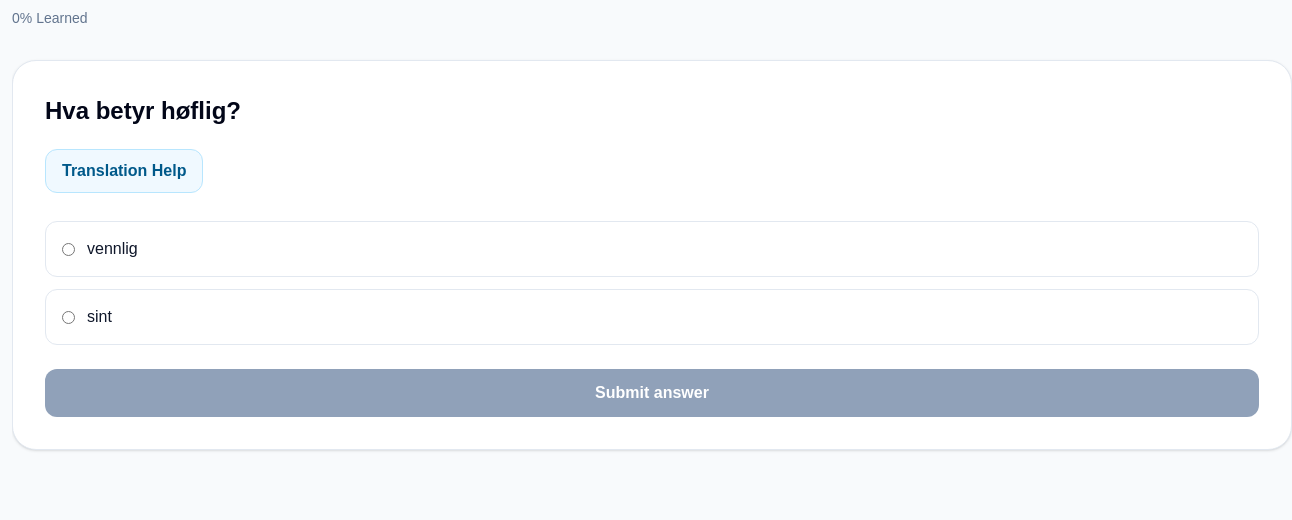
Test: Quiz Learned Milestone › does not announce streak 2 → 0 (incorrect, Translation Help: true)
Click the button "Translation Help" at [124, 171], box [45, 149, 204, 193]
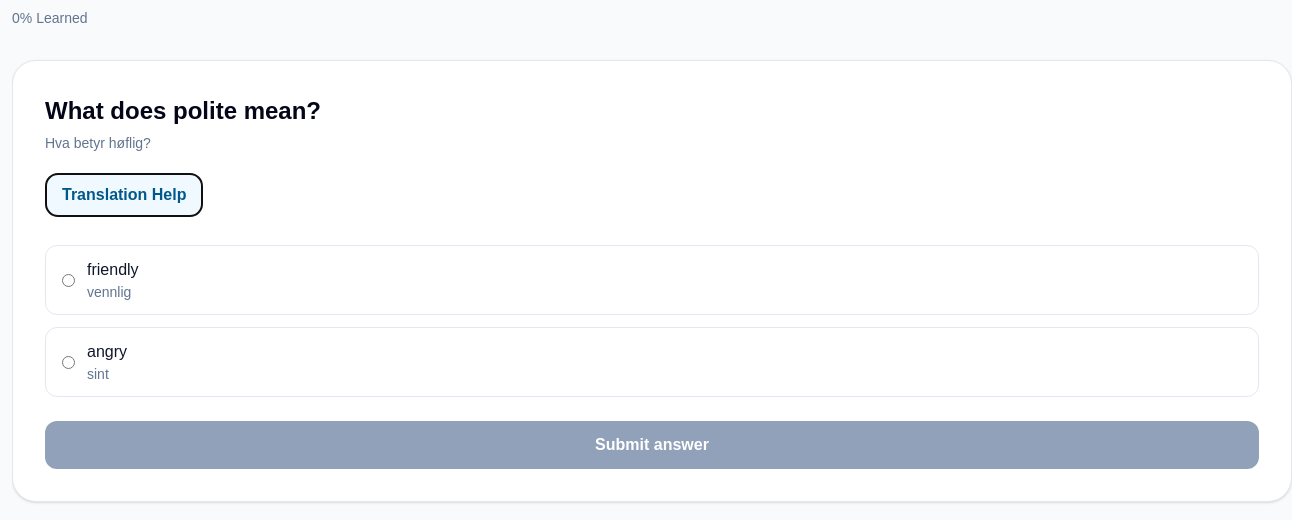
Click the radio button labelled "friendly vennlig" at [68, 280], box [62, 274, 75, 286]
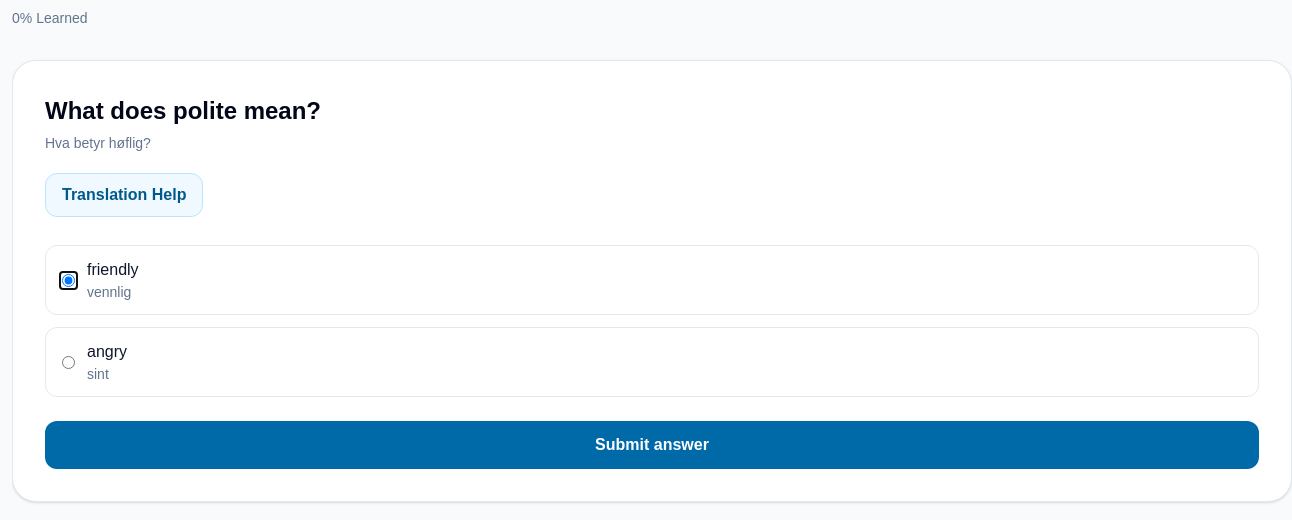
Click the button "Submit answer" at [652, 445], box [45, 421, 1259, 469]
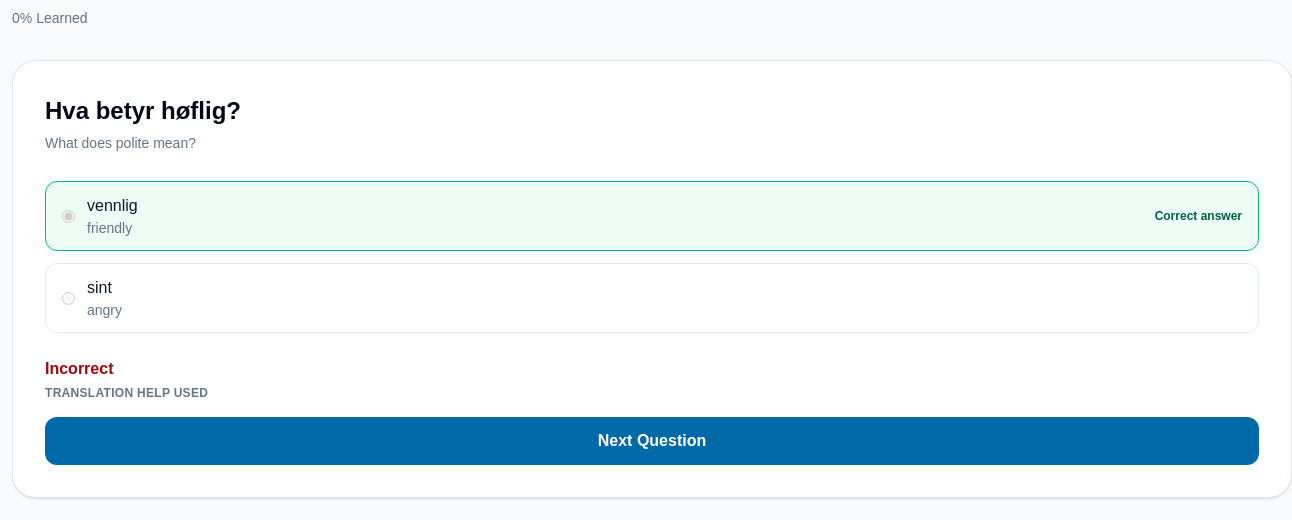
Expected: the button "Next Question" is shown, [45, 417, 1259, 465]
